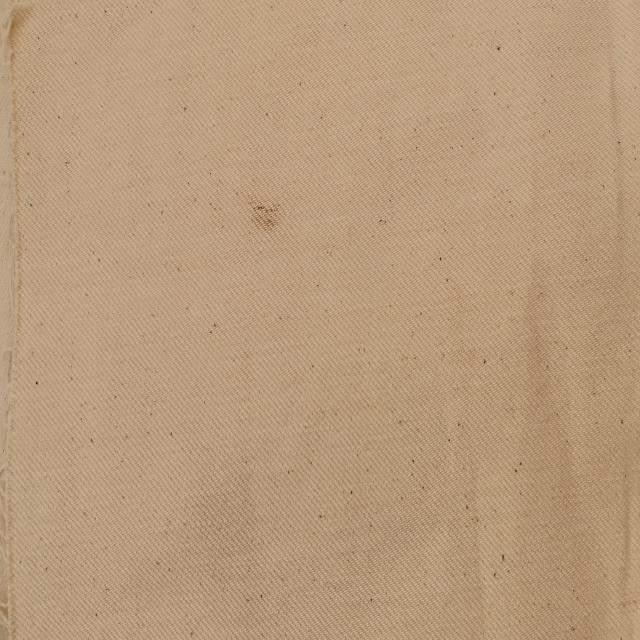taaaches: (242, 181, 291, 255)
